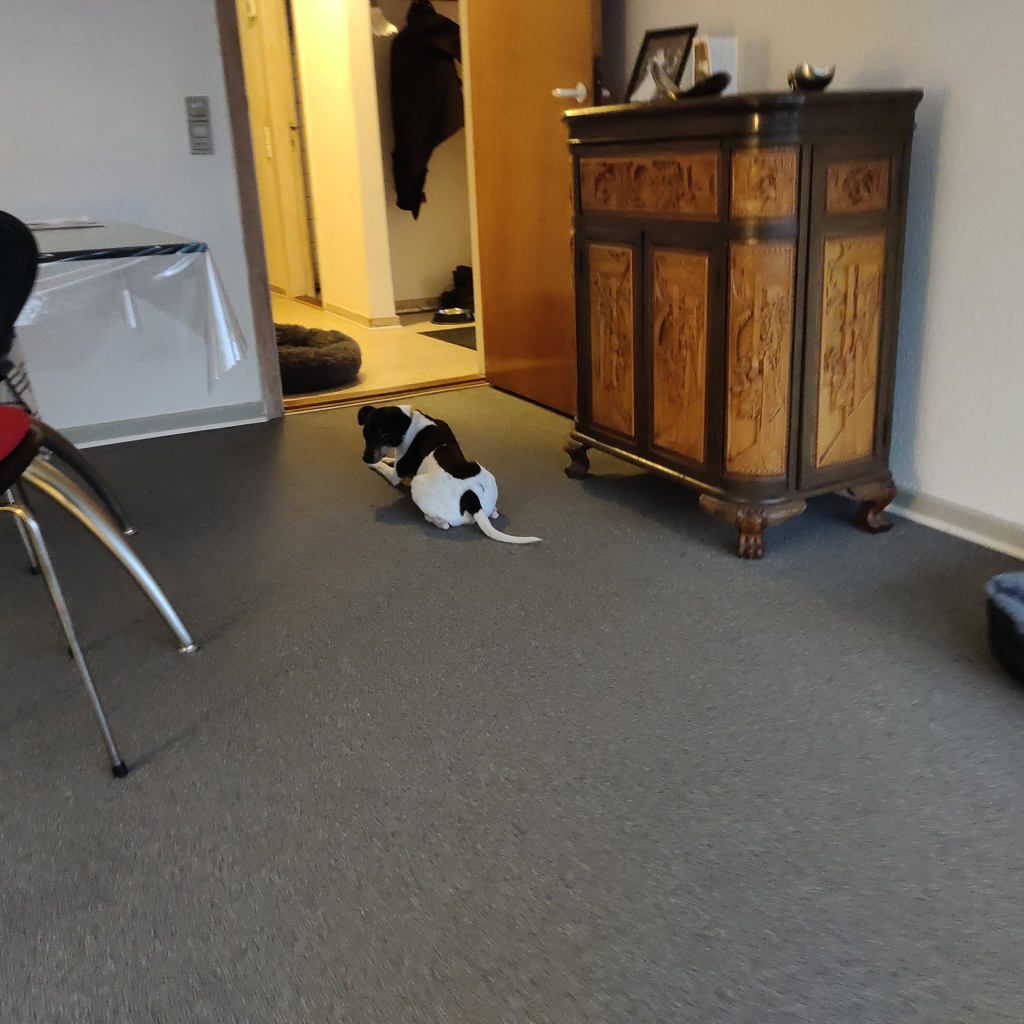Dog: (348, 397, 556, 551)
